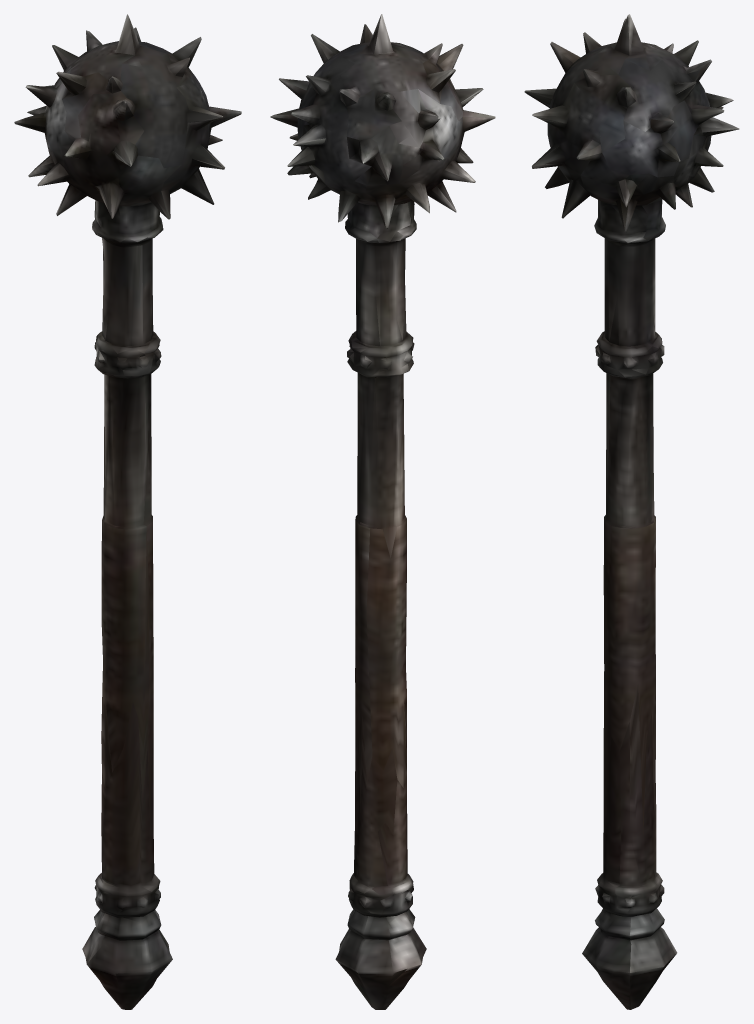
The model's file is great_morning_star.glb.
3 renders of one model, left to right at view 1: azimuth 30°, elevation 25°; view 2: azimuth 150°, elevation 25°; view 3: azimuth 270°, elevation 25°, orthographic.
Parts seen in each view (by area): view 1: great_morning_star; view 2: great_morning_star; view 3: great_morning_star.
Part boxes in pixels (x1,y1,x2,y2): great_morning_star: (14,14,241,1009); great_morning_star: (270,14,495,1009); great_morning_star: (524,14,739,1009).
Bounding box in the file's own units: 0.2625 × 1.35 × 0.2649.
Materials: 1 (1 with a texture image).
